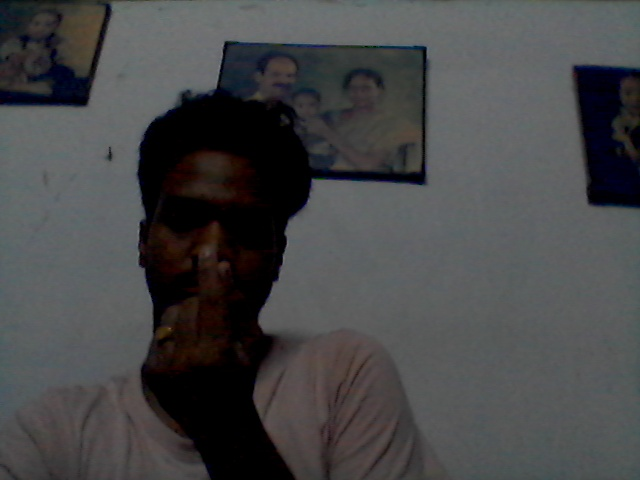Excuse Me: (135, 240, 267, 427)
